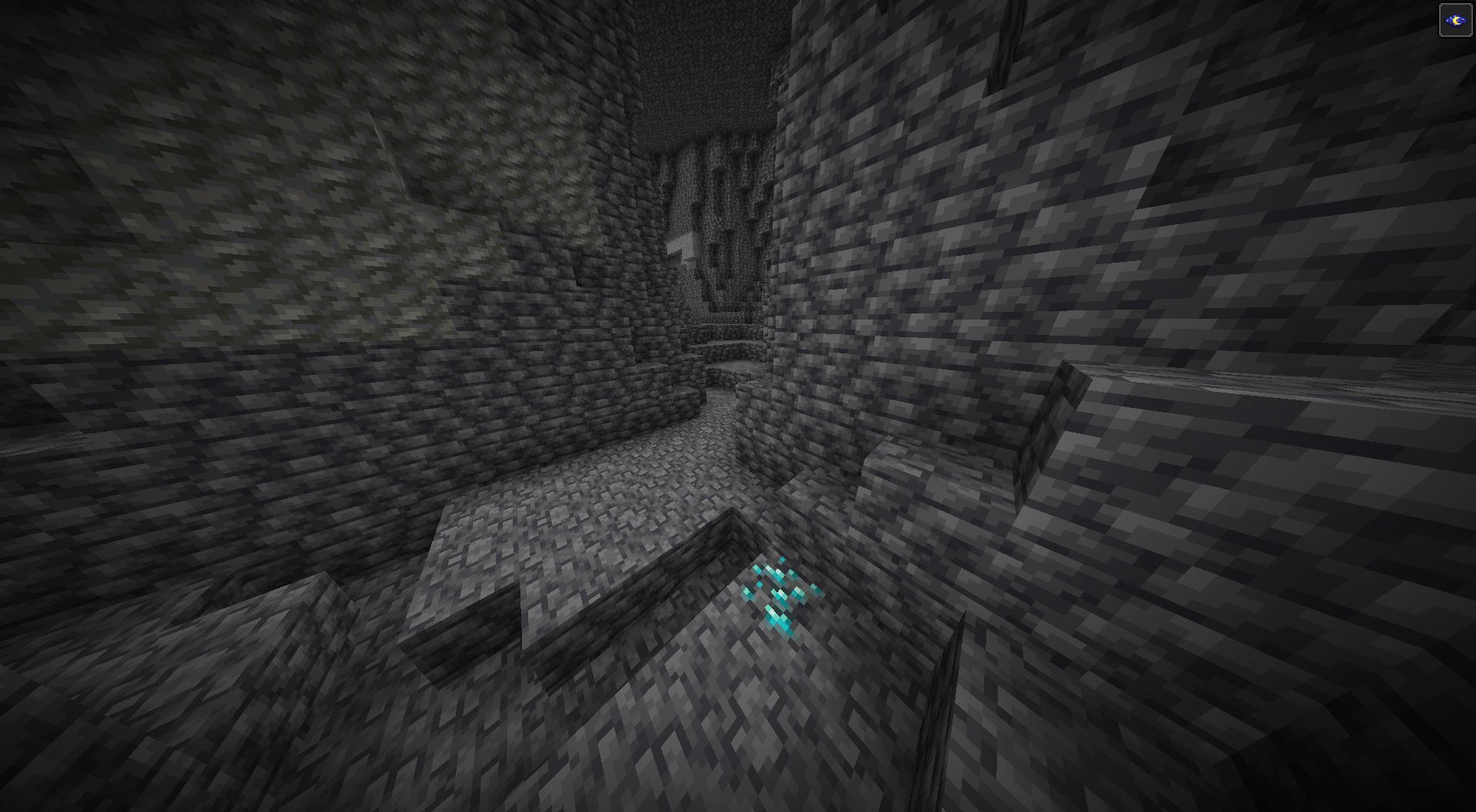diamond ore: (731, 555, 816, 643)
